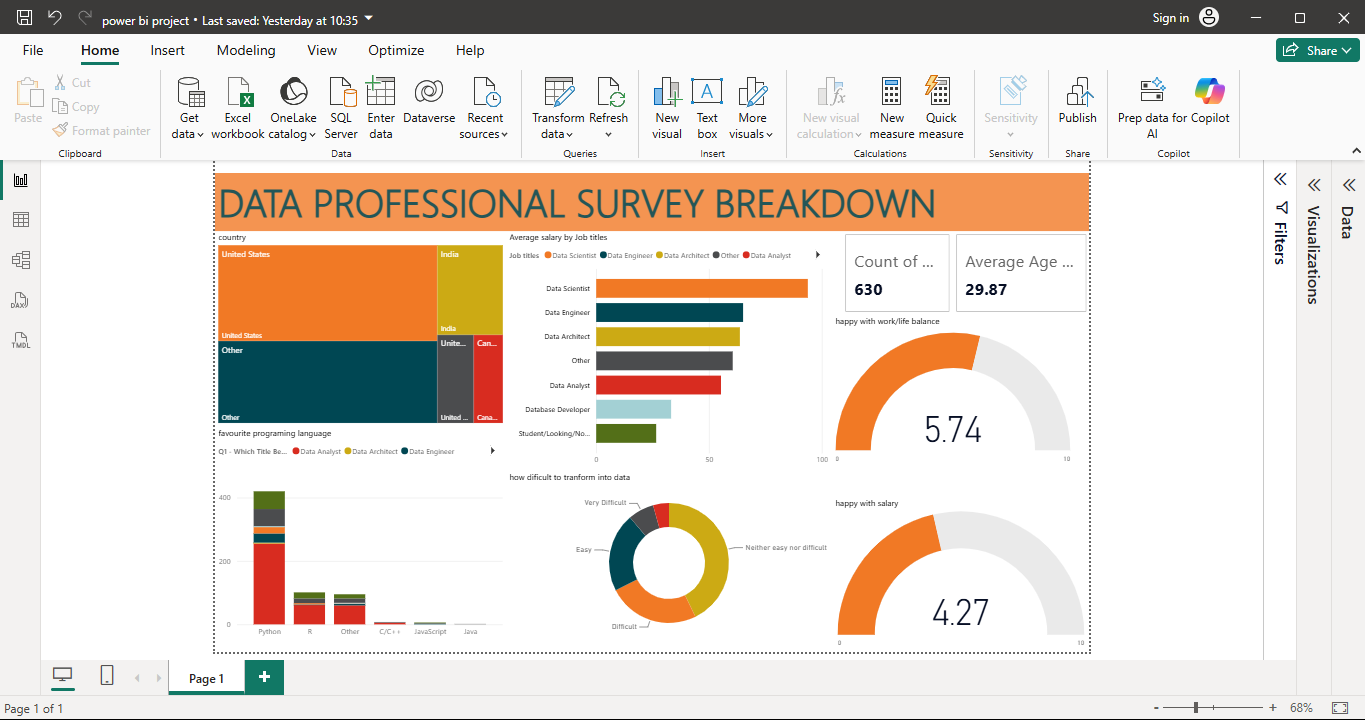

This screenshot's page, from the dashboard's own definition file:
{"tool":"powerbi","page":{"name":"Page 1","canvas":[1280,720],"ordinal":0},"visuals":[{"type":"cardVisual","fields":{"Data":["Count(Data Professional Survey.Unique ID)"]},"box":[917.5,103.8,162.5,123.8],"z":0},{"type":"cardVisual","fields":{"Data":["Avg(Data Professional Survey.Q10 - Current Age)"]},"box":[1080,103.8,200,123.8],"z":1000},{"type":"barChart","title":"Average salary by Job titles ","fields":{"Category":["Data Professional Survey.Q1 - Which Title Best Fits your Current Role?.1"],"Y":["Avg(Data Professional Survey.Average yearly salary)"],"Series":["Data Professional Survey.Q1 - Which Title Best Fits your Current Role?.1"]},"box":[426.2,103.8,476.2,352.5],"z":2000},{"type":"columnChart","title":"favourite programing language","fields":{"Category":["Data Professional Survey.Q5 - Favorite Programming Language.1"],"Y":["CountNonNull(Data Professional Survey.Unique ID)"],"Series":["Data Professional Survey.Q1 - Which Title Best Fits your Current Role?.1"]},"box":[0,390,426.2,317.5],"z":3000},{"type":"treemap","title":"country","fields":{"Values":["CountNonNull(Data Professional Survey.Q11 - Which Country do you live in?.1)"],"Group":["Data Professional Survey.Q11 - Which Country do you live in?.1"],"Details":["Data Professional Survey.Q11 - Which Country do you live in?.1"]},"box":[0,103.8,426.2,286.2],"z":4000},{"type":"gauge","title":"happy with work/life balance","fields":{"Y":["Avg(Data Professional Survey.Q6 - How Happy are you in your Current Position with the following? (Work/Life Balance))"],"MinValue":["Min(Data Professional Survey.Q6 - How Happy are you in your Current Position with the following? (Work/Life Balance))1"],"MaxValue":["Max(Data Professional Survey.Q6 - How Happy are you in your Current Position with the following? (Work/Life Balance))2"]},"box":[902.5,227.5,353.8,228.8],"z":5000},{"type":"gauge","title":"happy with salary","fields":{"Y":["Avg(Data Professional Survey.Q6 - How Happy are you in your Current Position with the following? (Salary))"],"MinValue":["Min(Data Professional Survey.Q6 - How Happy are you in your Current Position with the following? (Salary))1"],"MaxValue":["Max(Data Professional Survey.Q6 - How Happy are you in your Current Position with the following? (Salary))2"]},"box":[902.5,492.5,377.5,227.5],"z":6000},{"type":"textbox","box":[0,18.8,1280,85],"z":8000},{"type":"donutChart","title":"how dificult to tranform into data","fields":{"Category":["Data Professional Survey.Q7 - How difficult was it for you to break into Data?"],"Y":["CountNonNull(Data Professional Survey.Q7 - How difficult was it for you to break into Data?)"],"Series":["Data Professional Survey.Q7 - How difficult was it for you to break into Data?"]},"box":[425.9,455.1,477.1,253.2],"z":8001}]}

Visuals, with their boxes on the page's 1280x720 design canvas (x1, y1, x2, y2). These are canvas units, not pixel positions in the 1365x720 screenshot, which may show the page scaled, cropped or inside an application window:
cardVisual - Count(Data Professional Survey.Unique ID): bbox(918, 104, 1080, 228)
cardVisual - Avg(Data Professional Survey.Q10 - Current Age): bbox(1080, 104, 1280, 228)
"Average salary by Job titles " barChart: bbox(426, 104, 902, 456)
"favourite programing language" columnChart: bbox(0, 390, 426, 708)
"country" treemap: bbox(0, 104, 426, 390)
"happy with work/life balance" gauge: bbox(902, 228, 1256, 456)
"happy with salary" gauge: bbox(902, 492, 1280, 720)
textbox: bbox(0, 19, 1280, 104)
"how dificult to tranform into data" donutChart: bbox(426, 455, 903, 708)
